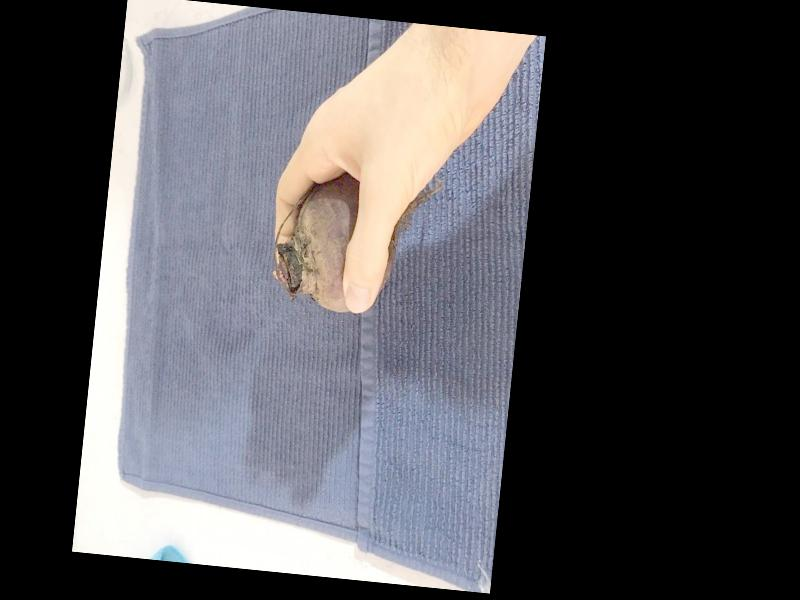Beet: (269, 170, 444, 322)
